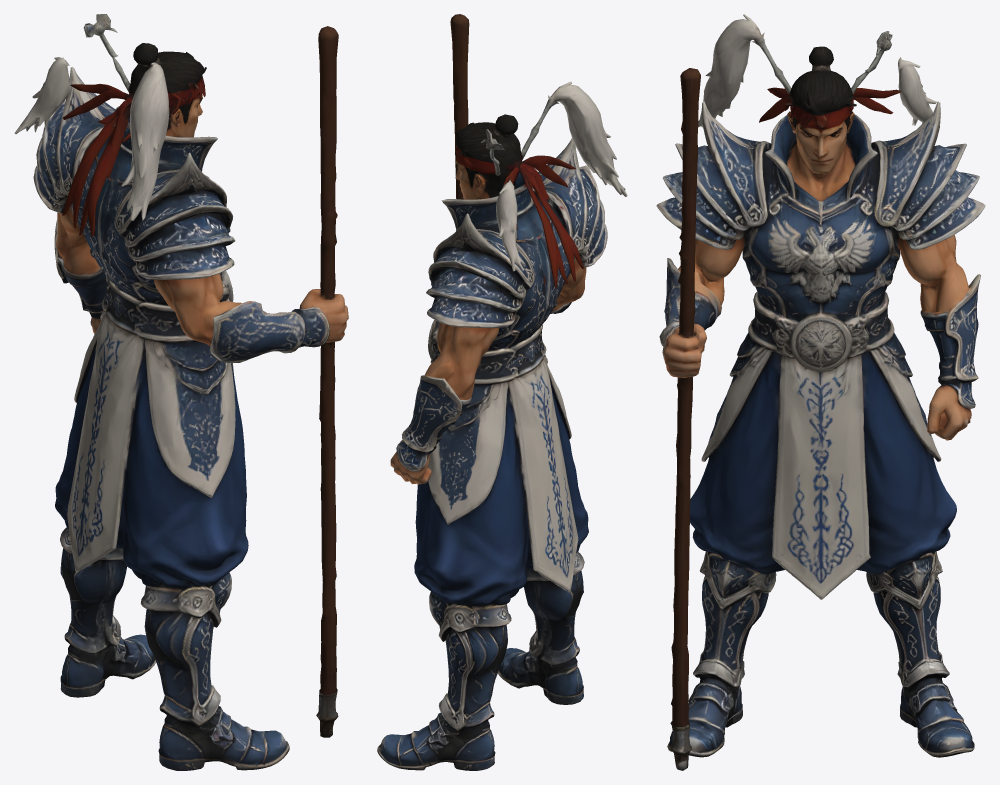
File: vanguard2_T7-tripo.glb
The picture shows the model from 3 angles, left to right: view 1: azimuth 30°, elevation 25°; view 2: azimuth 150°, elevation 25°; view 3: azimuth 270°, elevation 25°; orthographic projection. The views are drawn at different scales.
Visible parts, largest first — view 1: tripo_node_f2130483-7544-4f06-83cd-624591c2ba08; view 2: tripo_node_f2130483-7544-4f06-83cd-624591c2ba08; view 3: tripo_node_f2130483-7544-4f06-83cd-624591c2ba08.
Part boxes in pixels (x1=…): tripo_node_f2130483-7544-4f06-83cd-624591c2ba08: x1=14, y1=14, x2=348, y2=770; tripo_node_f2130483-7544-4f06-83cd-624591c2ba08: x1=377, y1=14, x2=627, y2=770; tripo_node_f2130483-7544-4f06-83cd-624591c2ba08: x1=656, y1=14, x2=985, y2=770.
Size of the model in its own units: 0.3037 by 1 by 0.4165.
1 material, 1 textured.
